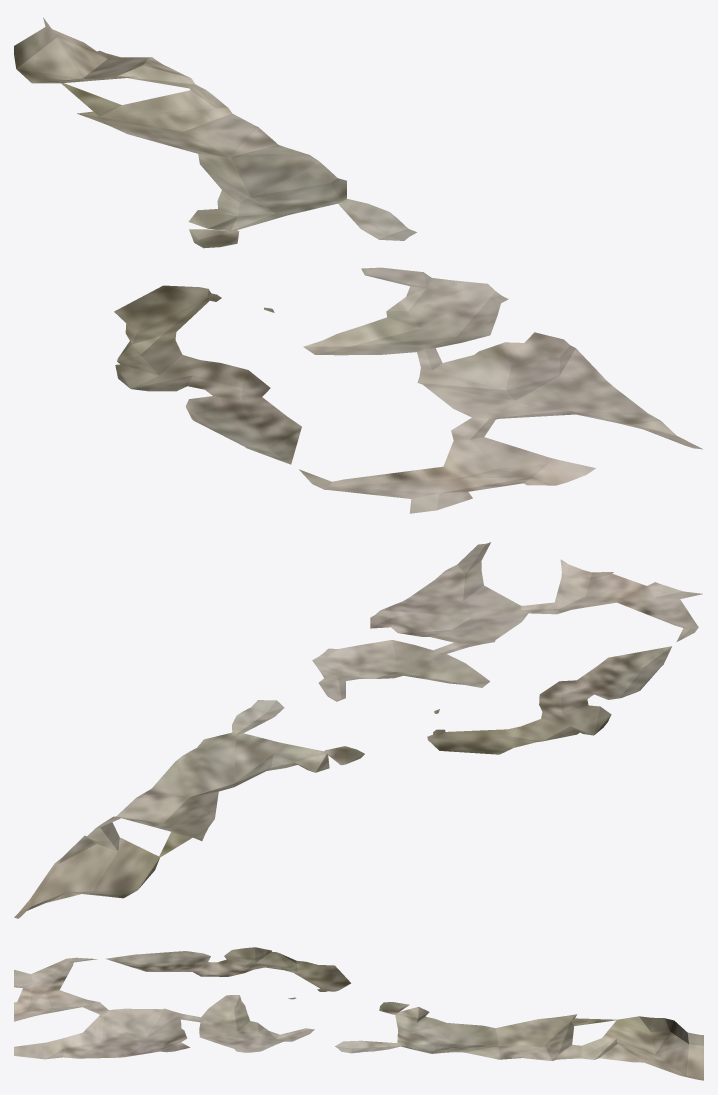
The picture shows the model from 3 angles, top to bottom: view 1: azimuth 30°, elevation 25°; view 2: azimuth 150°, elevation 25°; view 3: azimuth 270°, elevation 25°; orthographic projection. The views are drawn at different scales.
Bounding box in the file's own units: 2.11 × 0.2755 × 5.9.
Materials: 1 (1 with a texture image).
